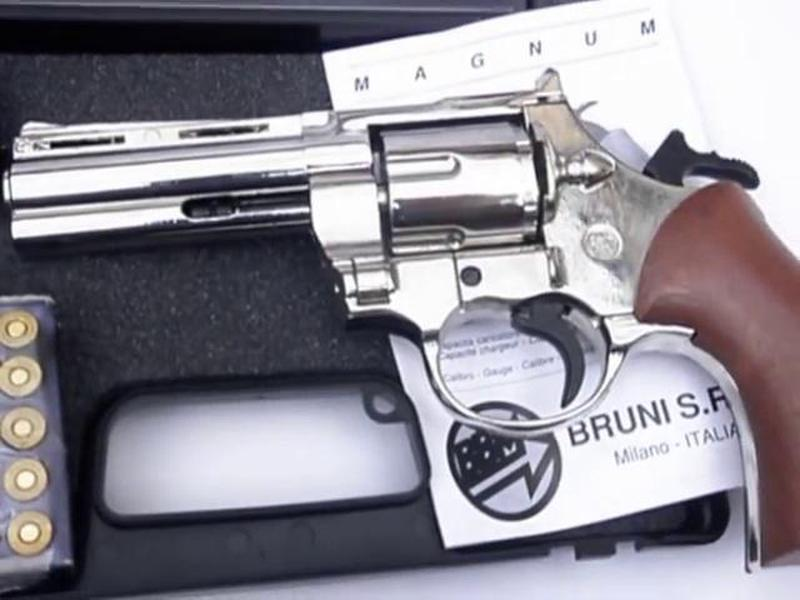Revolver: (12, 84, 800, 462)
